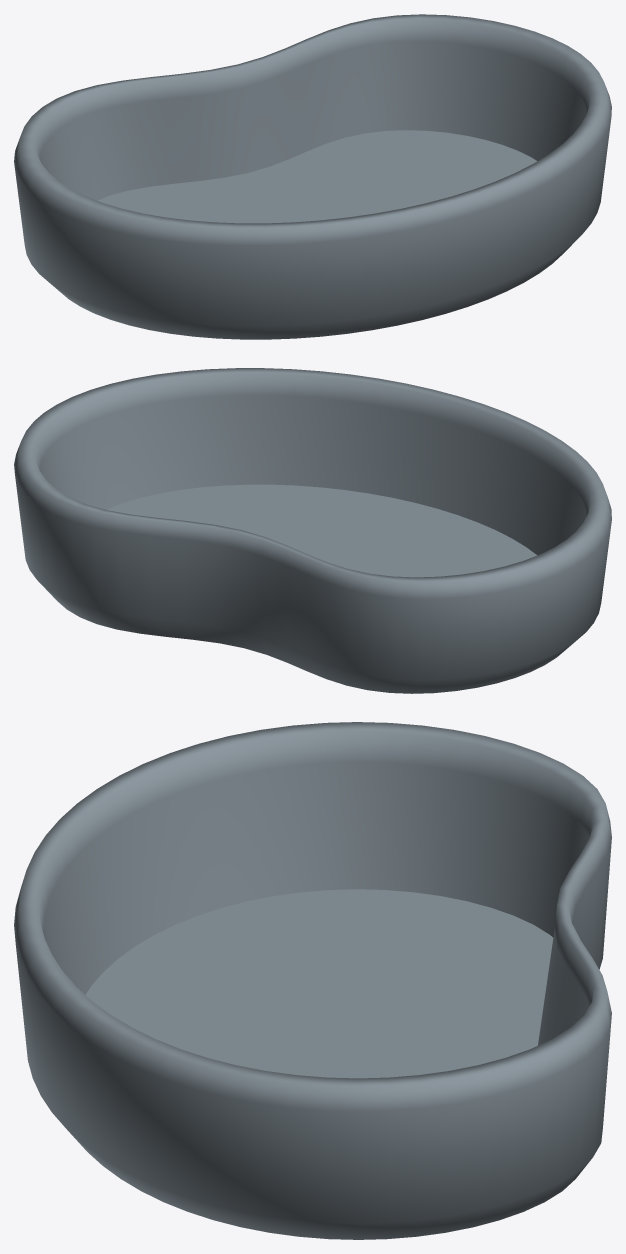
File: asset.fbx
3 views of the same model, one above another, from view 1: azimuth 30°, elevation 25°; view 2: azimuth 150°, elevation 25°; view 3: azimuth 270°, elevation 25° (orthographic). The views are drawn at different scales.
Visible parts, largest first — view 1: radcare_kidney_basin_open_basin_shell; view 2: radcare_kidney_basin_open_basin_shell; view 3: radcare_kidney_basin_open_basin_shell.
Boxes of the visible parts, x1,y1,x2,y2 form: radcare_kidney_basin_open_basin_shell: (14,14,611,339); radcare_kidney_basin_open_basin_shell: (14,368,611,693); radcare_kidney_basin_open_basin_shell: (14,722,611,1239).
Bounding box in the file's own units: 0.3472 × 0.073 × 0.2352.
